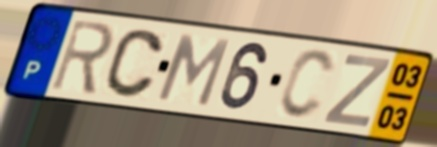6: (218, 41, 270, 113)
C: (101, 27, 167, 101), (276, 47, 337, 123)
M: (153, 32, 234, 110)
R: (48, 17, 116, 97)
Z: (319, 52, 395, 130)
